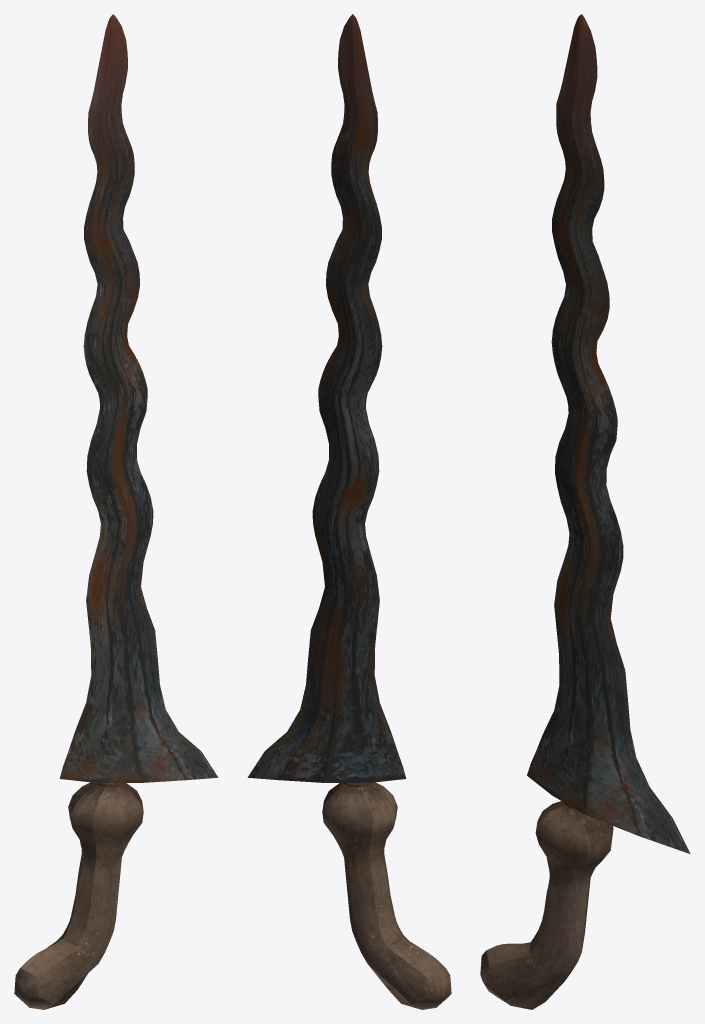
File: Keris.fbx
The picture shows the model from 3 angles, left to right: view 1: azimuth 30°, elevation 25°; view 2: azimuth 150°, elevation 25°; view 3: azimuth 330°, elevation 25°; orthographic projection. The views are drawn at different scales.
Visible parts, largest first — view 1: Sphere; view 2: Sphere; view 3: Sphere.
Part boxes in pixels (x1,y1,x2,y2): Sphere: (14,14,218,1009); Sphere: (247,14,451,1009); Sphere: (480,14,690,1009).
Size of the model in its own units: 108 by 495 by 31.75.
Materials: 1 (1 with a texture image).
